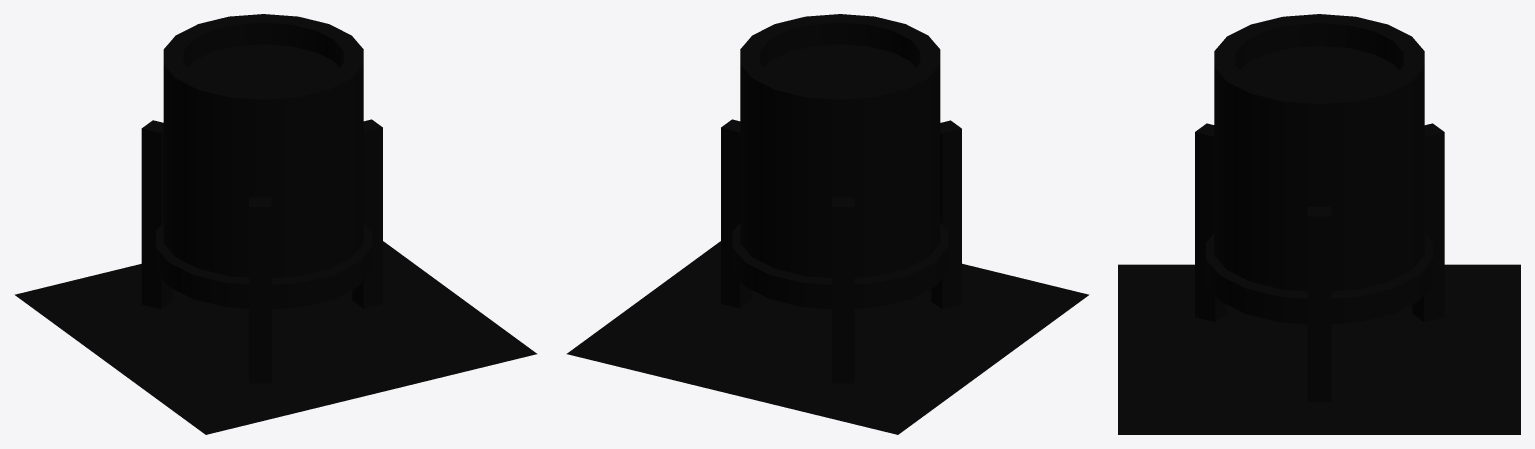
Rendered from huapen_001.FBX.
3 views of the same model, side by side, from view 1: azimuth 30°, elevation 25°; view 2: azimuth 150°, elevation 25°; view 3: azimuth 270°, elevation 25° (orthographic). The views are drawn at different scales.
Parts seen in each view (by area): view 1: huapen_001_01, huapen_001_02; view 2: huapen_001_01, huapen_001_02; view 3: huapen_001_01, huapen_001_02.
Part boxes in pixels (box(x1,y1,x2,y2)): huapen_001_01: box(141, 14, 382, 383); huapen_001_02: box(14, 241, 536, 434); huapen_001_01: box(721, 14, 961, 383); huapen_001_02: box(567, 241, 1089, 434); huapen_001_01: box(1195, 14, 1444, 401); huapen_001_02: box(1118, 264, 1520, 434).
Size of the model in its own units: 599 by 466 by 599.
